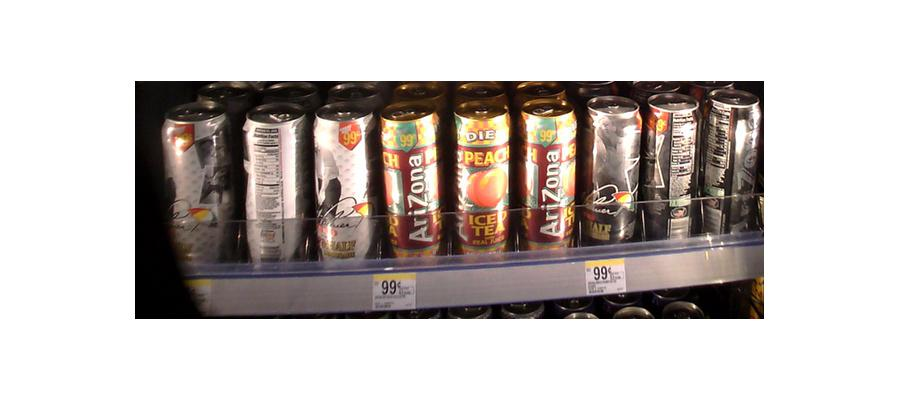bottle: (164, 103, 231, 273), (241, 104, 308, 269), (312, 104, 375, 267), (381, 105, 445, 265), (451, 103, 511, 258), (516, 103, 576, 256), (583, 96, 639, 249), (703, 89, 759, 239), (643, 92, 698, 241)
